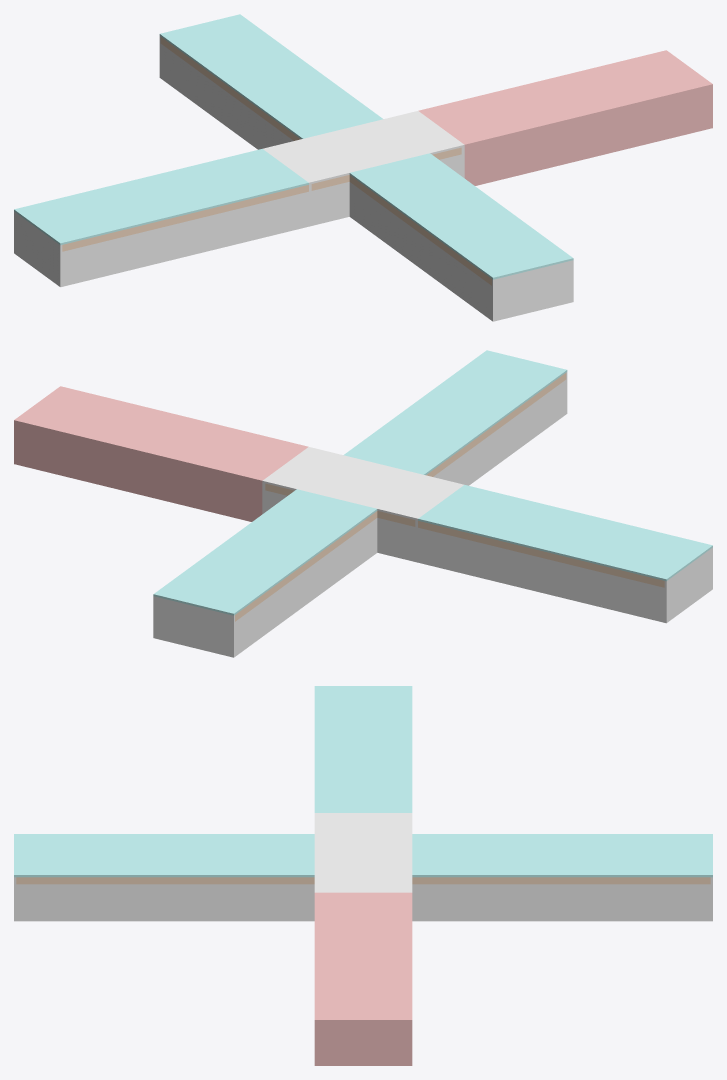
The model's file is DarkPhaseMap.fbx.
3 renders of one model, top to bottom at view 1: azimuth 30°, elevation 25°; view 2: azimuth 150°, elevation 25°; view 3: azimuth 270°, elevation 25°, orthographic. The views are drawn at different scales.
Parts seen in each view (by area): view 1: Group34, Group100, Group62, Group6, wall3, wall8, Group88, wall6, wall1, Group58, Group30, Group33 (+10 smaller); view 2: Group34, Group100, Group6, Group62, wall4, wall7, Group88, wall1, wall6, Group2, Group30, Group33 (+10 smaller); view 3: Group6, Group62, Group100, Group34, wall2, wall5, Group88, Group96, Group5, Group61, Group4, Group60 (+2 smaller).
Part boxes in pixels (bbox=[...]): Group34: bbox=[14, 149, 308, 245]; Group100: bbox=[418, 50, 712, 146]; Group62: bbox=[349, 153, 573, 279]; Group6: bbox=[159, 14, 383, 139]; wall3: bbox=[62, 193, 308, 284]; wall8: bbox=[464, 95, 710, 184]; Group88: bbox=[263, 111, 464, 184]; wall6: bbox=[349, 184, 491, 318]; wall1: bbox=[160, 46, 291, 149]; Group58: bbox=[492, 260, 573, 319]; Group30: bbox=[14, 211, 62, 285]; Group33: bbox=[62, 185, 308, 251]; Group34: bbox=[418, 485, 712, 581]; Group100: bbox=[14, 386, 308, 482]; Group6: bbox=[153, 489, 377, 615]; Group62: bbox=[343, 350, 567, 475]; wall4: bbox=[418, 529, 664, 620]; wall7: bbox=[16, 431, 262, 520]; Group88: bbox=[262, 447, 463, 520]; wall1: bbox=[235, 520, 377, 654]; wall6: bbox=[435, 382, 566, 485]; Group2: bbox=[153, 596, 234, 655]; Group30: bbox=[664, 547, 712, 621]; Group33: bbox=[418, 521, 664, 587]; Group6: bbox=[412, 834, 712, 877]; Group62: bbox=[14, 834, 314, 877]; Group100: bbox=[314, 892, 412, 1021]; Group34: bbox=[314, 686, 412, 812]; wall2: bbox=[412, 886, 710, 918]; wall5: bbox=[16, 886, 314, 918]; Group88: bbox=[314, 813, 412, 892]; Group96: bbox=[314, 1022, 412, 1063]; Group5: bbox=[412, 877, 710, 884]; Group61: bbox=[16, 877, 314, 884]; Group4: bbox=[412, 919, 712, 921]; Group60: bbox=[14, 919, 314, 921].
Bounding box in the file's own units: 68944 × 4438 × 60996.
